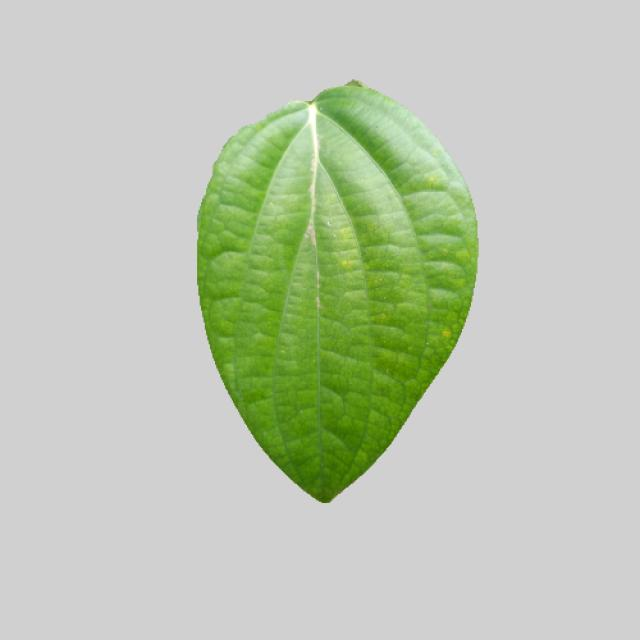healthy: (188, 83, 483, 507)
